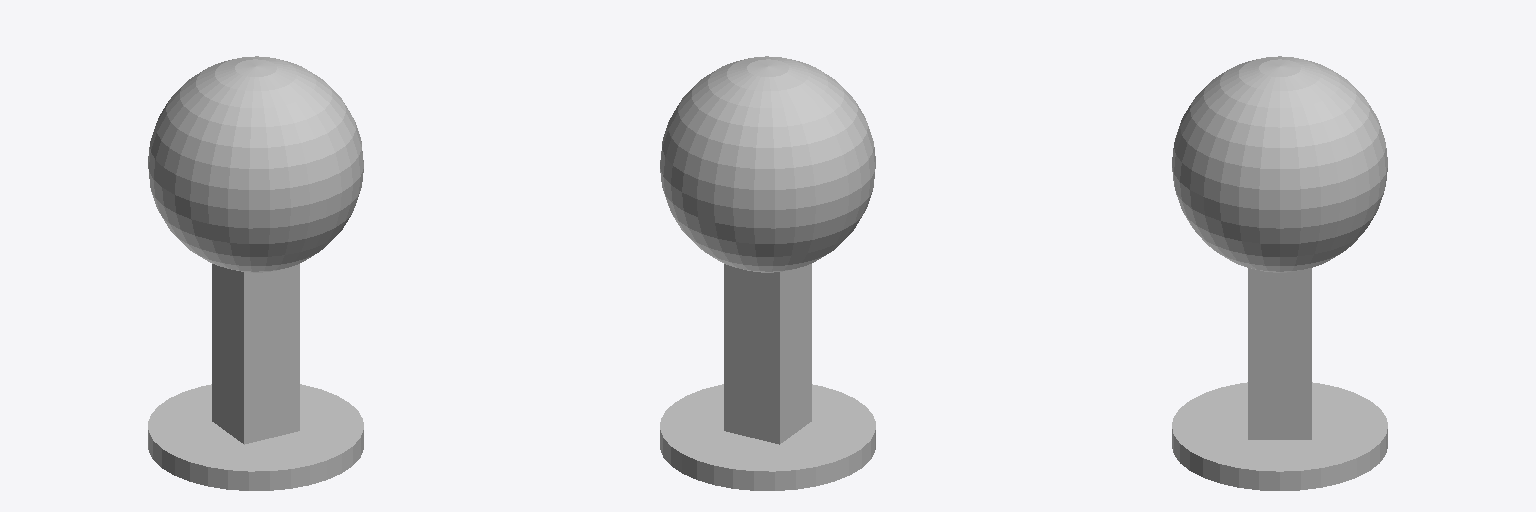
Rendered from Light.obj.
The picture shows the model from 3 angles: view 1: azimuth 30°, elevation 25°; view 2: azimuth 150°, elevation 25°; view 3: azimuth 270°, elevation 25°; orthographic projection.
Visible parts, largest first — view 1: Sphere, Cylinder, Cube.001; view 2: Sphere, Cylinder, Cube.001; view 3: Sphere, Cylinder, Cube.001.
Part boxes in pixels (x1,y1,x2,y2): Sphere: (148,56,363,272); Cylinder: (148,384,363,490); Cube.001: (212,264,299,444); Sphere: (660,56,875,272); Cylinder: (660,384,875,490); Cube.001: (724,264,811,444); Sphere: (1172,56,1387,272); Cylinder: (1172,382,1387,490); Cube.001: (1248,268,1311,439).
Bounding box in the file's own units: 2 × 3.86 × 2.